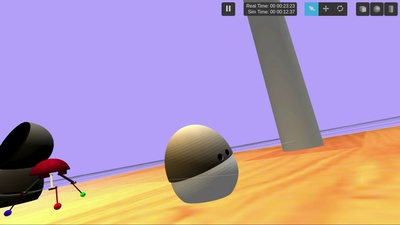mira_robot: (165, 125, 239, 203)
